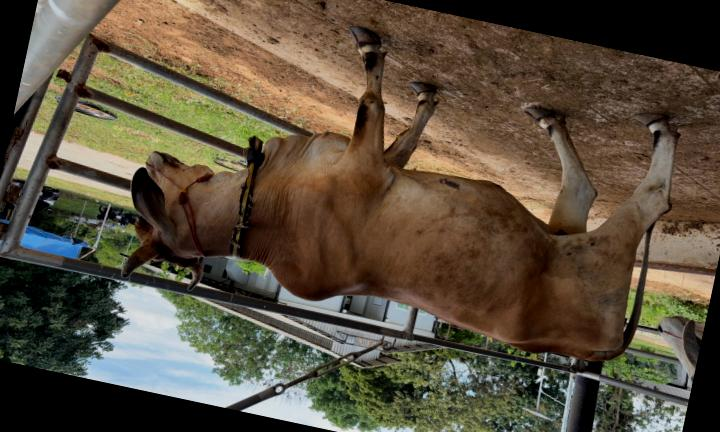Brahman: (122, 28, 679, 361)
